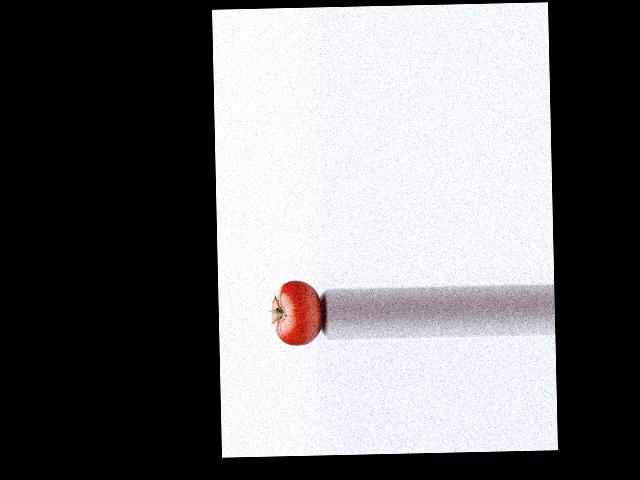tomato: (271, 279, 322, 346)
